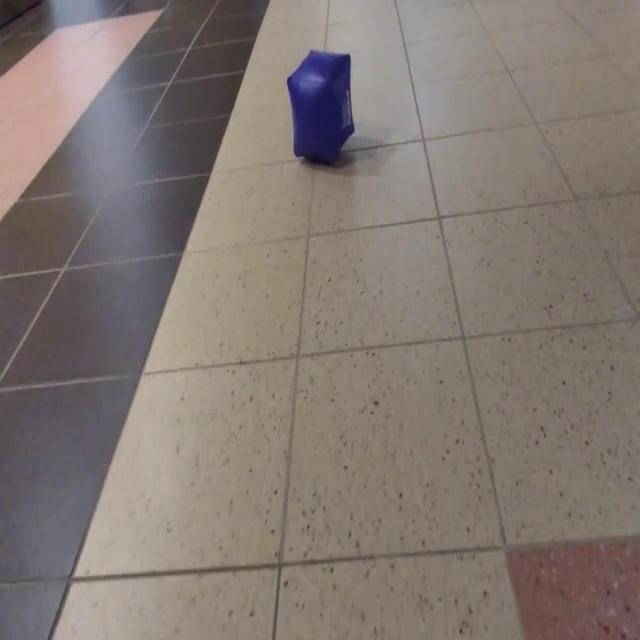frc_cube: (285, 49, 357, 165)
